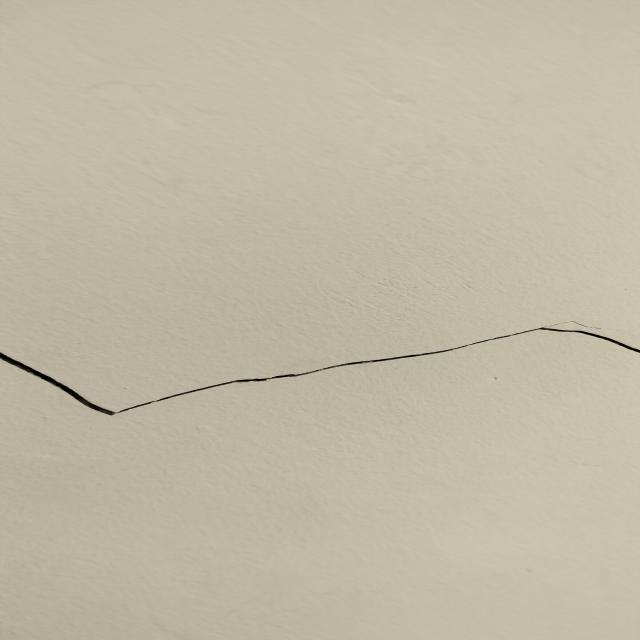Crack: (5, 318, 640, 419)
